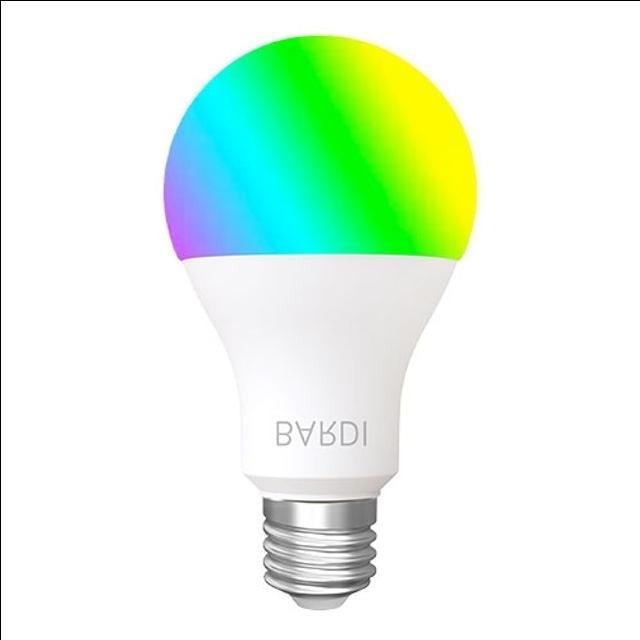light_bulb: (137, 32, 487, 624)
